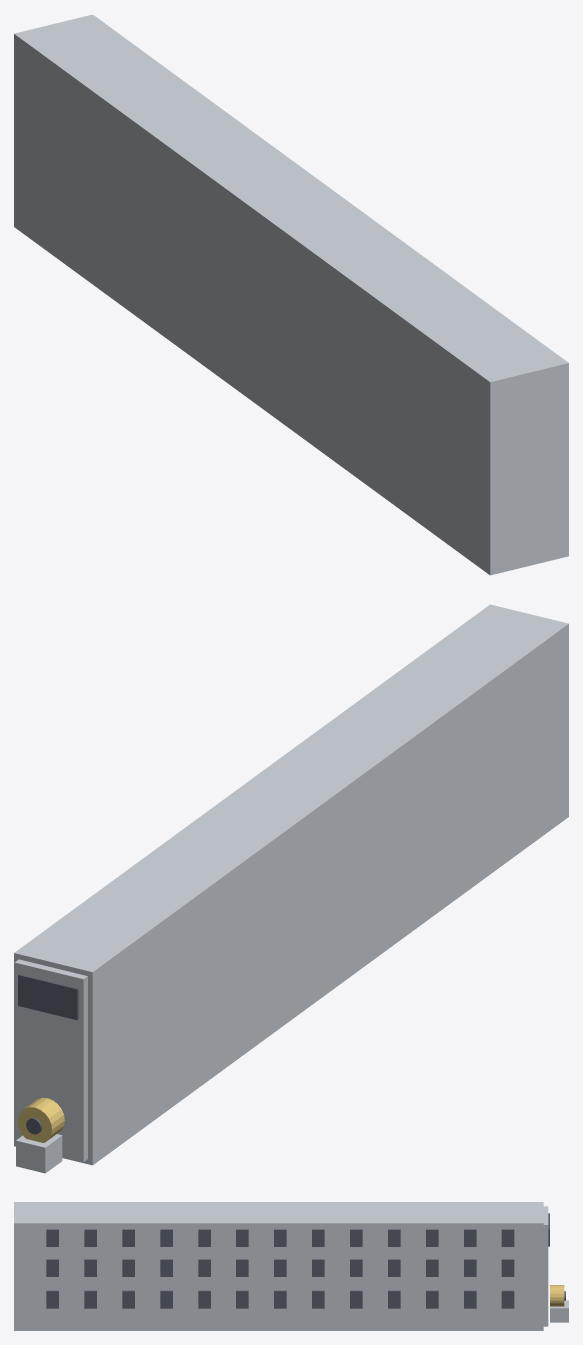
Rendered from laser.glb.
3 renders of one model, top to bottom at view 1: azimuth 30°, elevation 25°; view 2: azimuth 150°, elevation 25°; view 3: azimuth 270°, elevation 25°, orthographic. The views are drawn at different scales.
Parts seen in each view (by area): view 1: silver enclosure; view 2: silver enclosure, front panel, black name plate, silver extraction latch, gold optical port; view 3: silver enclosure, black vent (×39), front panel, silver extraction latch, gold optical port.
Boxes of the visible parts, x1,y1,x2,y2 form: silver enclosure: (14,14,568,575); silver enclosure: (14,604,568,1165); front panel: (14,959,87,1161); black name plate: (18,974,78,1020); silver extraction latch: (16,1134,62,1173); gold optical port: (17,1097,64,1142); silver enclosure: (14,1202,543,1330); black vent (×39): (46,1229,514,1308); front panel: (543,1206,548,1326); silver extraction latch: (550,1300,568,1322); gold optical port: (550,1285,564,1306).
Size of the model in its own units: 0.033 by 0.075 by 0.351.
